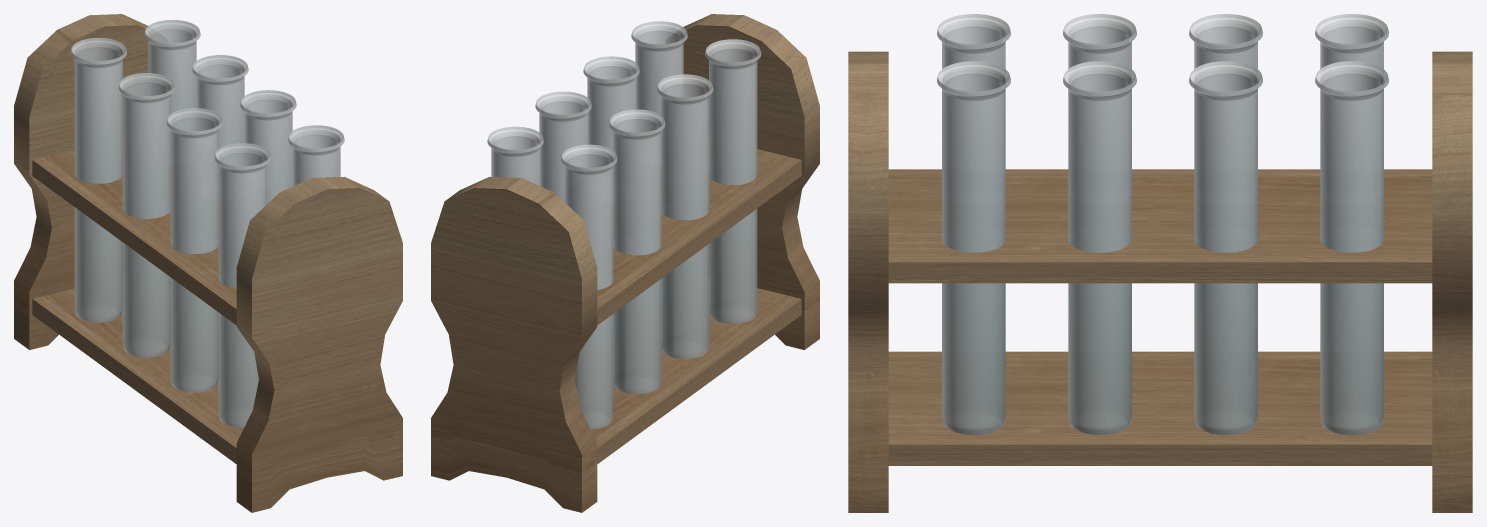
File: tuberack-transformed.glb
3 renders of one model, left to right at view 1: azimuth 30°, elevation 25°; view 2: azimuth 150°, elevation 25°; view 3: azimuth 270°, elevation 25°, orthographic. The views are drawn at different scales.
Visible parts, largest first — view 1: Cube_Material_0, Cylinder_Material.001_0; view 2: Cube_Material_0, Cylinder_Material.001_0; view 3: Cube_Material_0, Cylinder_Material.001_0.
Part boxes in pixels (x1=…): Cube_Material_0: x1=14, y1=14, x2=402, y2=512; Cylinder_Material.001_0: x1=70, y1=20, x2=344, y2=427; Cube_Material_0: x1=431, y1=14, x2=819, y2=512; Cylinder_Material.001_0: x1=487, y1=21, x2=761, y2=429; Cube_Material_0: x1=848, y1=51, x2=1472, y2=512; Cylinder_Material.001_0: x1=937, y1=14, x2=1388, y2=434.
Size of the model in its own units: 2.27 by 4.52 by 6.2.
2 materials, 2 textured.
